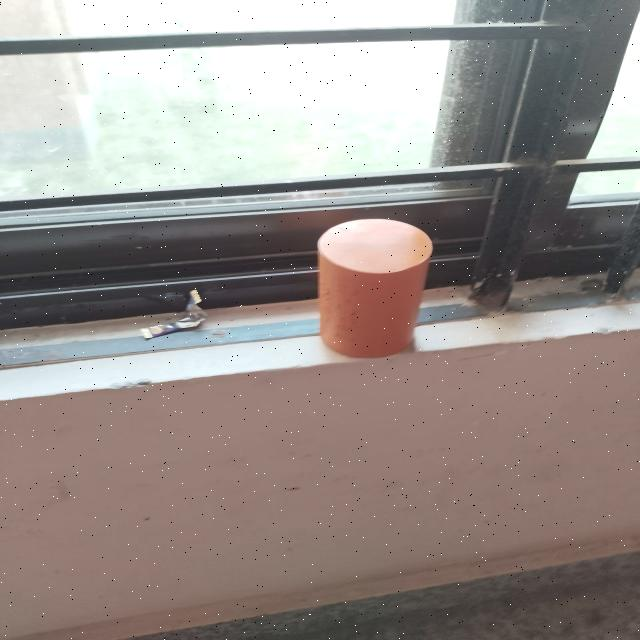Cylinder: (316, 217, 434, 358)
